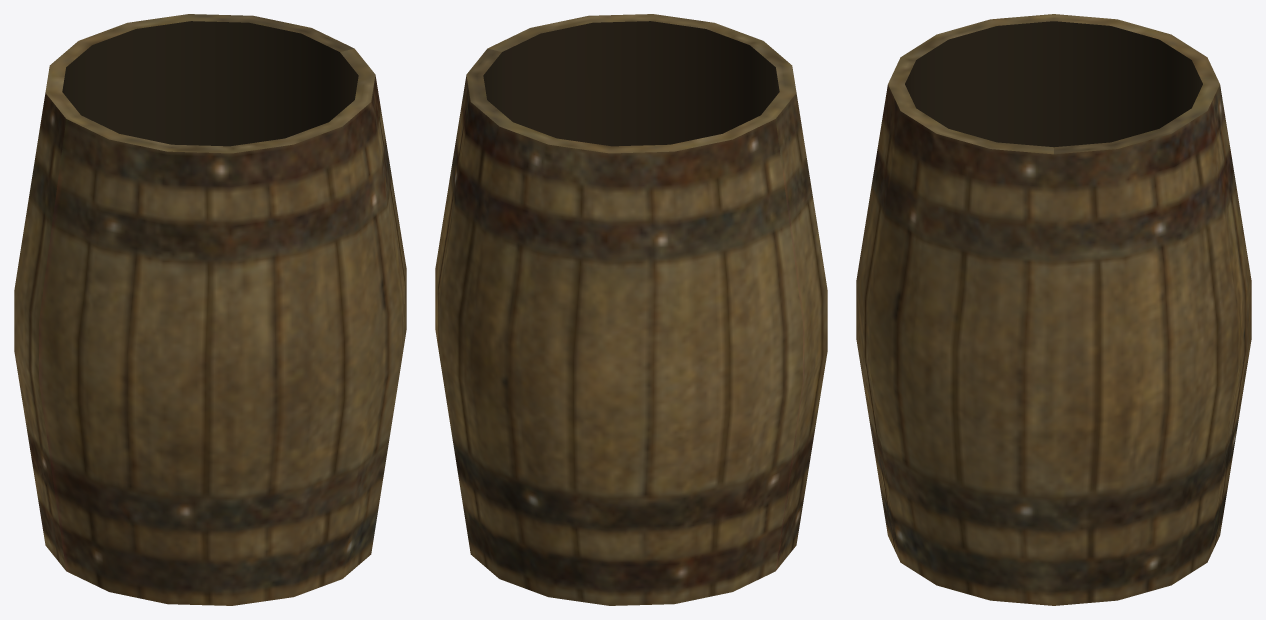
File: BarrelOpen.glb
The picture shows the model from 3 angles, left to right: view 1: azimuth 30°, elevation 25°; view 2: azimuth 150°, elevation 25°; view 3: azimuth 270°, elevation 25°; orthographic projection.
Parts seen in each view (by area): view 1: BarrelOpen; view 2: BarrelOpen; view 3: BarrelOpen.
Part boxes in pixels (x1,y1,x2,y2): BarrelOpen: [14, 14, 406, 605]; BarrelOpen: [435, 14, 827, 605]; BarrelOpen: [856, 14, 1251, 605].
Size of what is drawn, in the model's own units: 0.932 by 1.18 by 0.932.
1 material, 1 textured.
